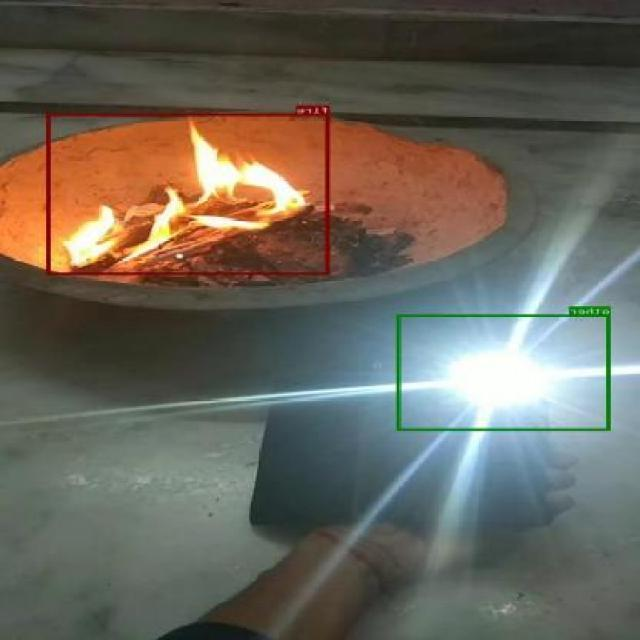Fire: (47, 114, 330, 274)
